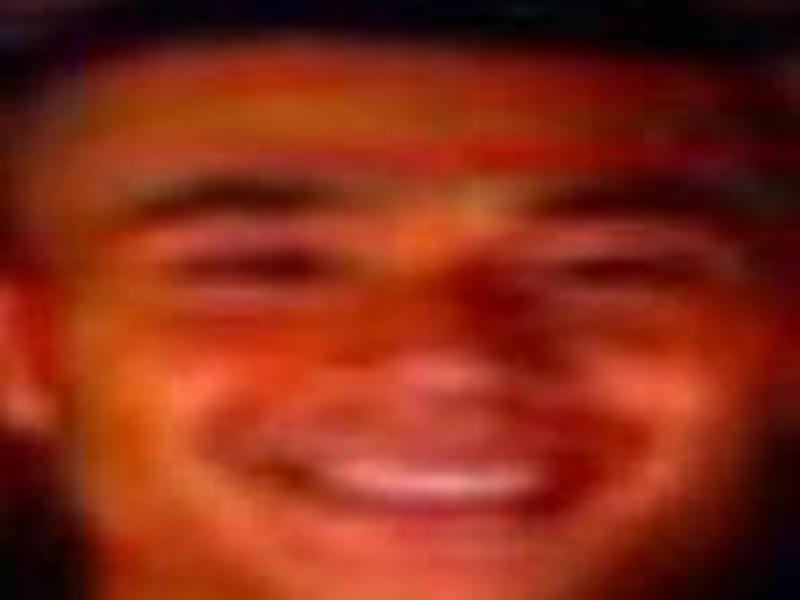without_mask: (46, 55, 766, 600)
